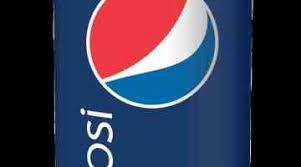pepsi: (84, 1, 221, 110)
